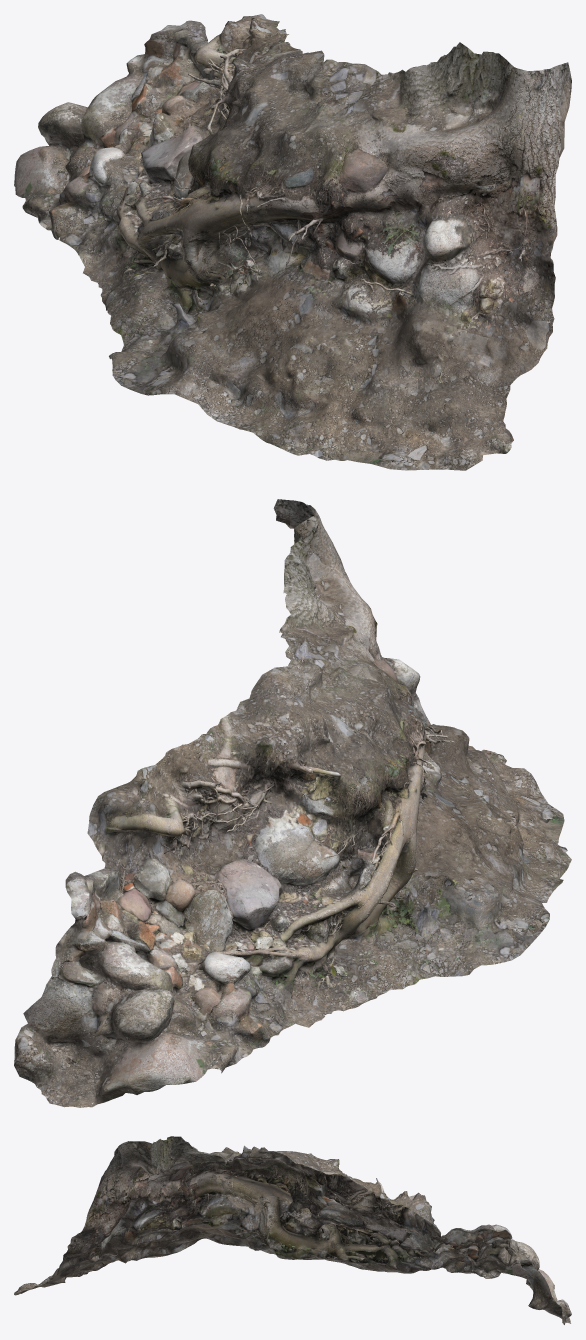
Rendered from sm_Roots_02_02.fbx.
The picture shows the model from 3 angles, top to bottom: view 1: azimuth 30°, elevation 25°; view 2: azimuth 150°, elevation 25°; view 3: azimuth 270°, elevation 25°; orthographic projection. The views are drawn at different scales.
Parts seen in each view (by area): view 1: sm_Roots_02_02_LOD0; view 2: sm_Roots_02_02_LOD0; view 3: sm_Roots_02_02_LOD0.
Part boxes in pixels (x1,y1,x2,y2): sm_Roots_02_02_LOD0: (14,14,571,470); sm_Roots_02_02_LOD0: (14,499,571,1107); sm_Roots_02_02_LOD0: (14,1136,571,1324).
Bounding box in the file's own units: 123 × 269 × 111.
